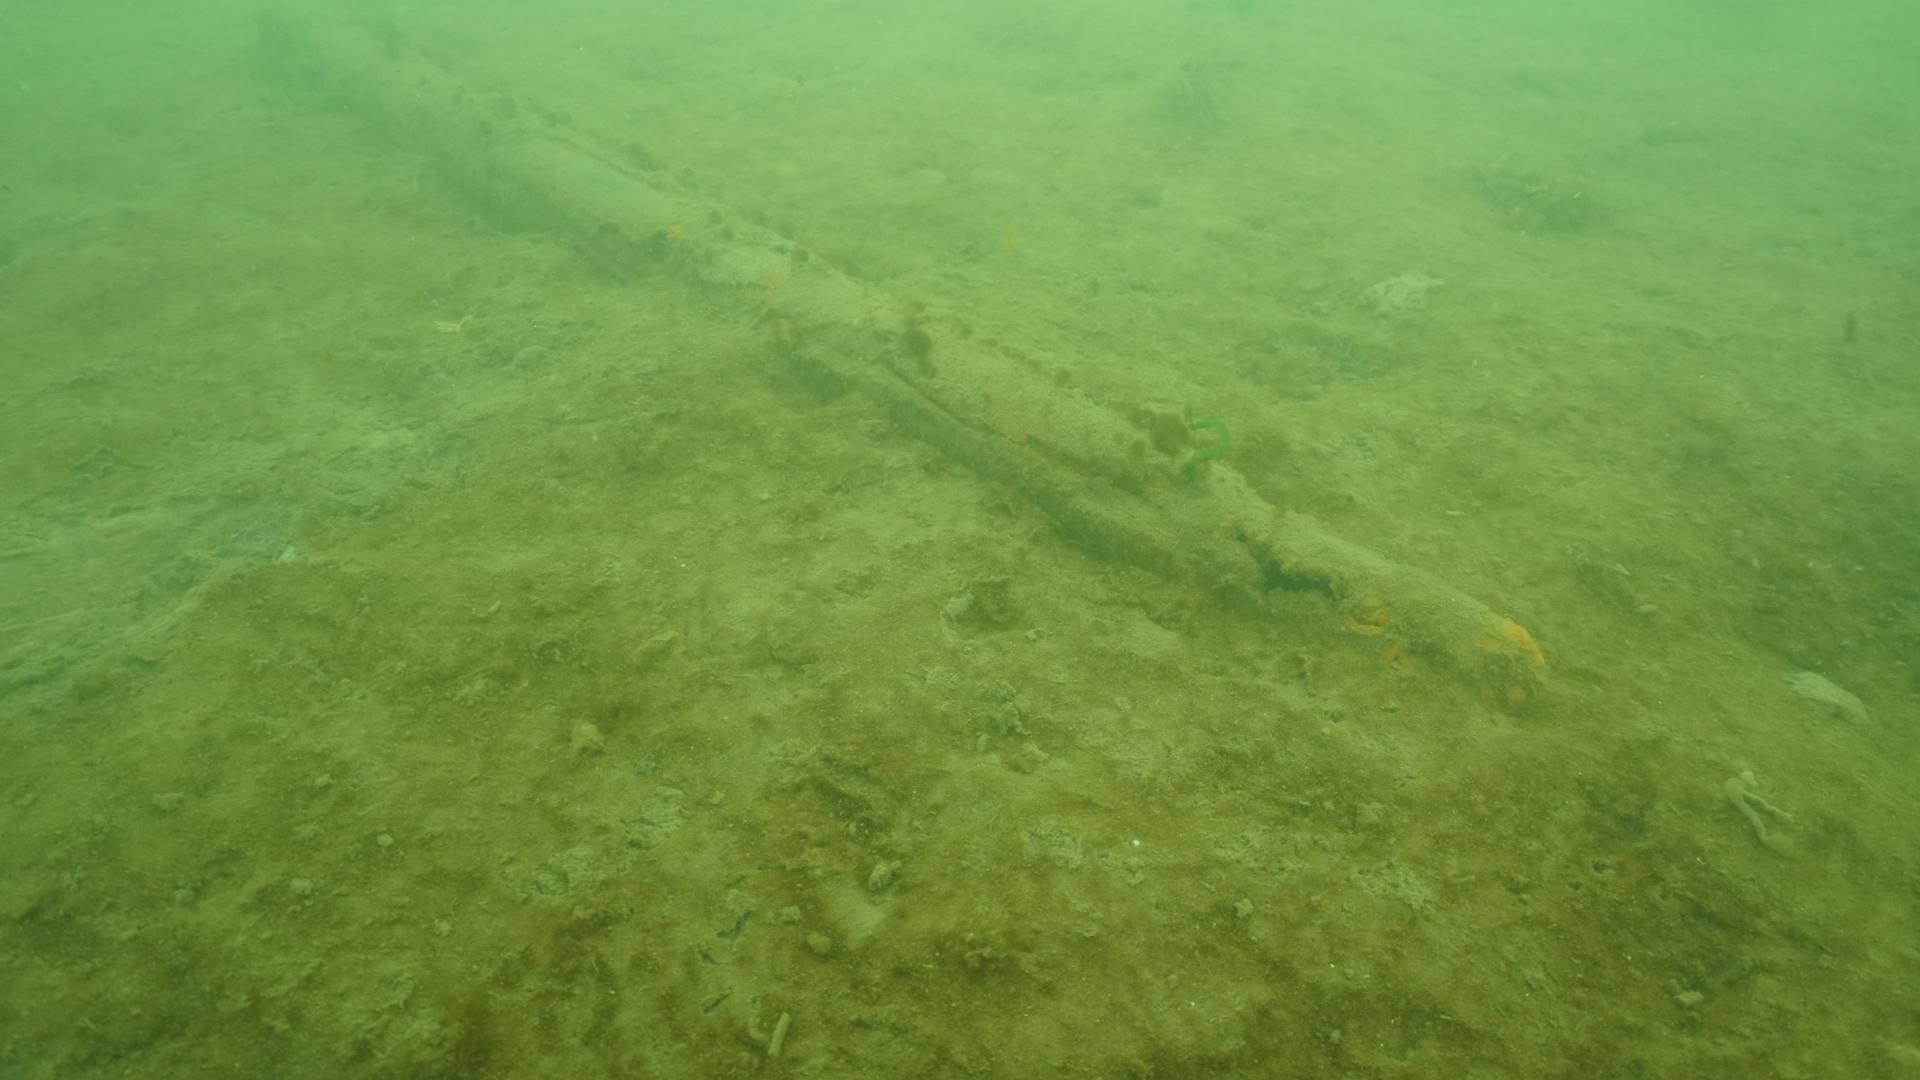wood: (262, 7, 1547, 728)
